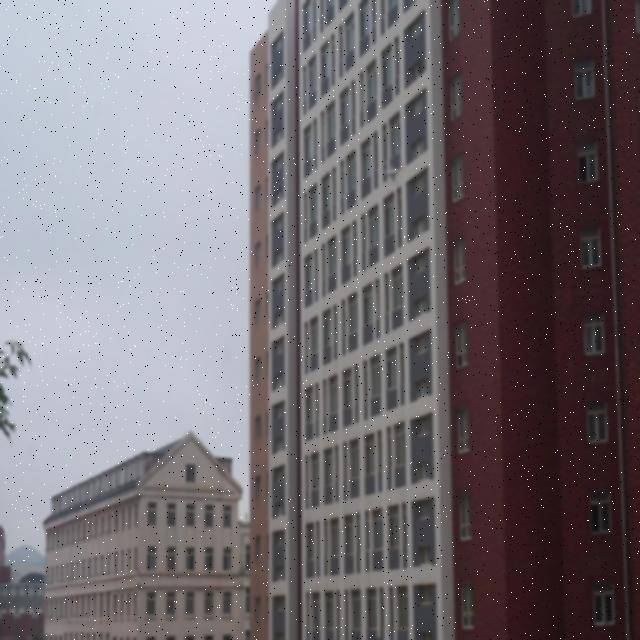UAV: (382, 164, 406, 186)
